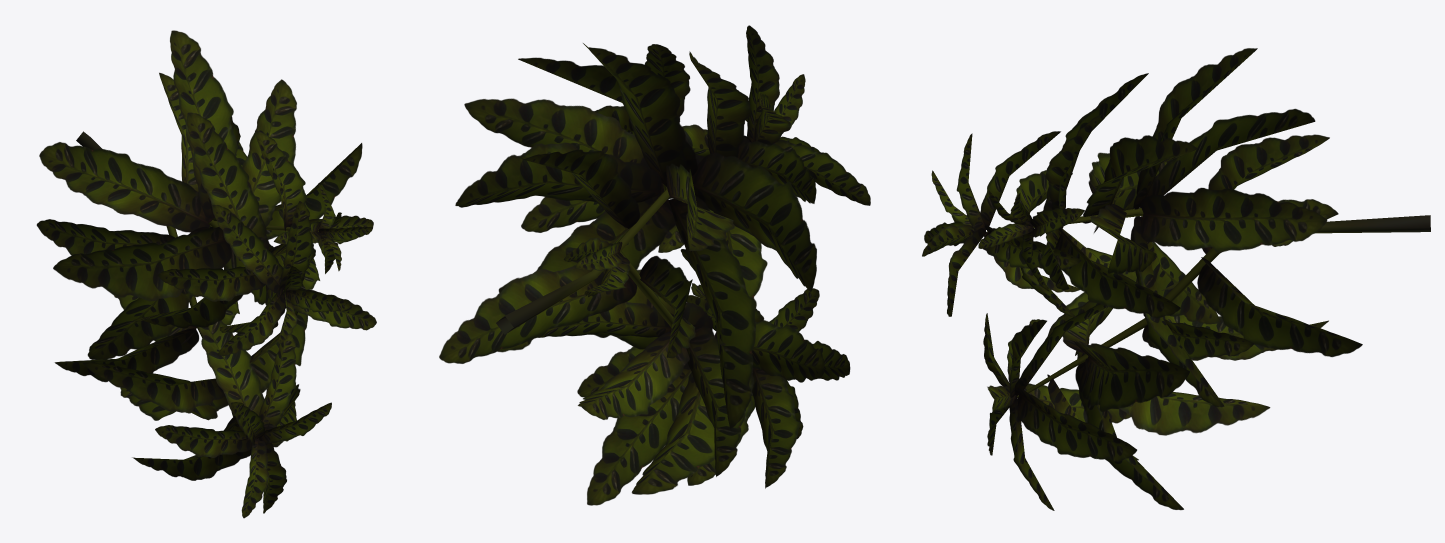
File: Pl_Shrub4.glb
The picture shows the model from 3 angles, left to right: view 1: azimuth 30°, elevation 25°; view 2: azimuth 150°, elevation 25°; view 3: azimuth 270°, elevation 25°; orthographic projection. The views are drawn at different scales.
Visible parts, largest first — view 1: trop_shrub_04; view 2: trop_shrub_04; view 3: trop_shrub_04.
Part boxes in pixels (box(x1,y1,x2,y2)): trop_shrub_04: box(36, 30, 376, 518); trop_shrub_04: box(439, 25, 870, 505); trop_shrub_04: box(922, 48, 1430, 510).
Bounding box in the file's own units: 1.05 × 1.4 × 1.33.
1 material, 1 textured.
